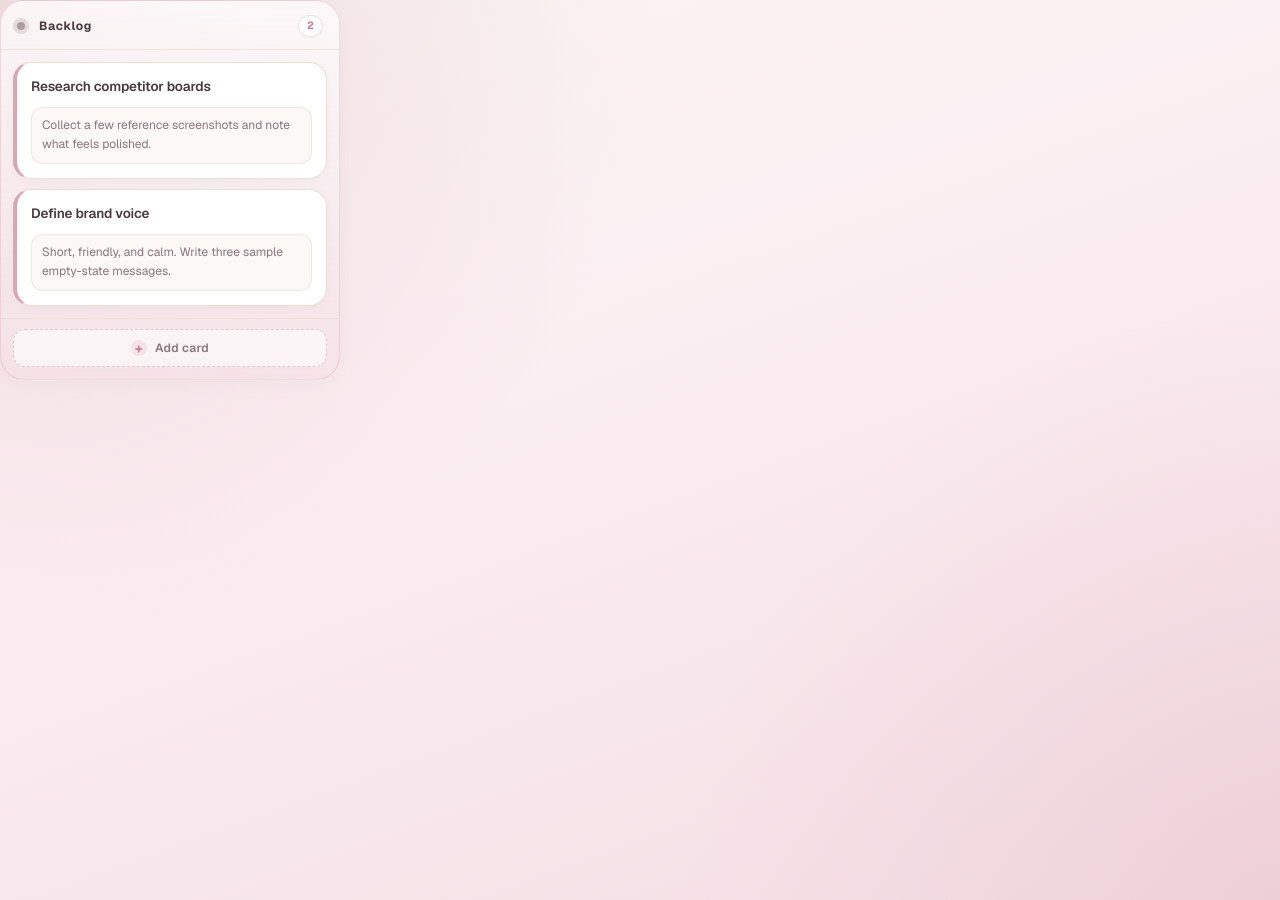
Test: Column rename › cancels a draft when Escape is pressed
Replace the text in the field named "Rename column Backlog" with "Canceled name". click: (161, 26)
box: [33,16,290,36]
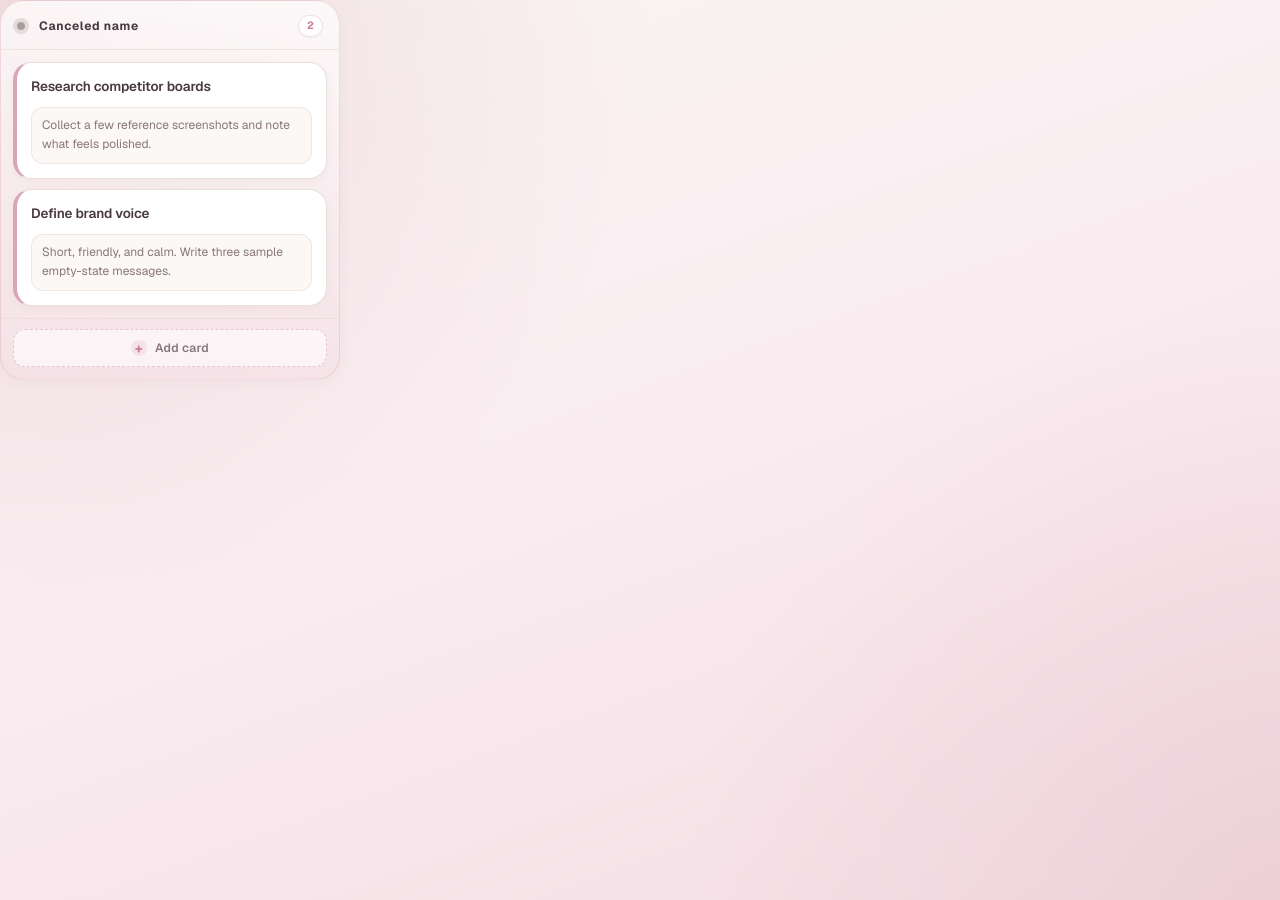
Press Escape in the field named "Rename column Backlog", box [33,16,290,36]
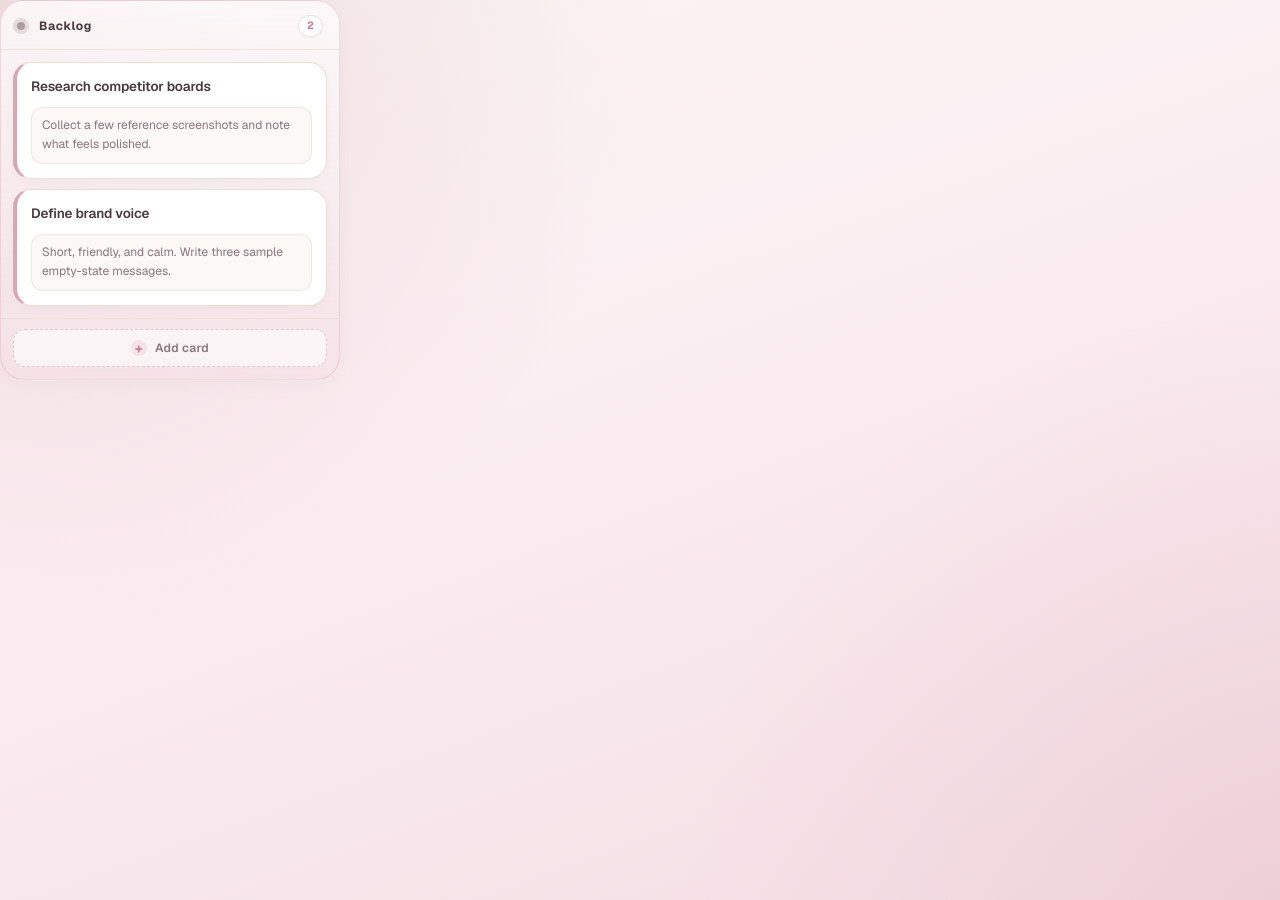
Check: the field named "Rename column Backlog" holds "Backlog", box [33,16,290,36]
